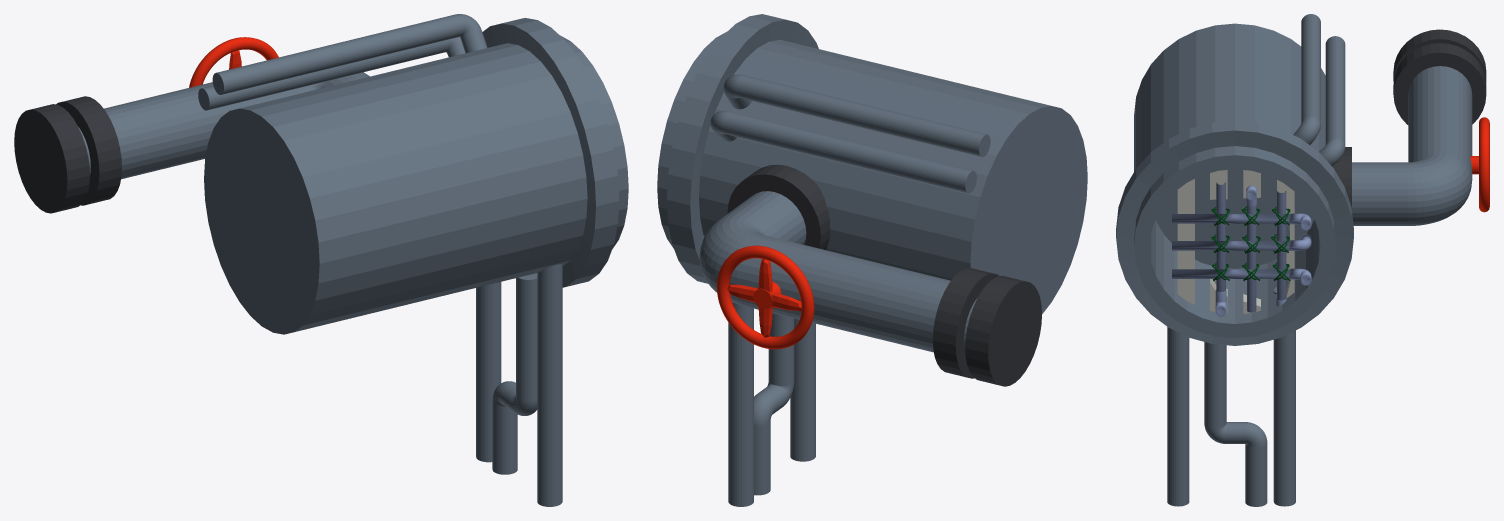
Rendered from Tunel_new_2.fbx.
3 views of the same model, side by side, from view 1: azimuth 30°, elevation 25°; view 2: azimuth 150°, elevation 25°; view 3: azimuth 270°, elevation 25° (orthographic). The views are drawn at different scales.
Parts seen in each view (by area): view 1: Cylinder, Cylinder.006, Cylinder.001, Cylinder.002, Cylinder.003, Cylinder.004, Cylinder.007; view 2: Cylinder, Cylinder.006, Cylinder.001, Cylinder.007, Cylinder.004, Cylinder.003, Cylinder.002; view 3: Cylinder, Cylinder.006, Cube.001, Cylinder.003, Cylinder.002, Cylinder.004, Cylinder.007, Cylinder.001.
Part boxes in pixels (bbox=[...]): Cylinder: bbox=[204, 18, 628, 334]; Cylinder.006: bbox=[14, 37, 369, 213]; Cylinder.001: bbox=[212, 14, 487, 94]; Cylinder.002: bbox=[537, 264, 562, 506]; Cylinder.003: bbox=[492, 273, 537, 474]; Cylinder.004: bbox=[476, 282, 501, 462]; Cylinder.007: bbox=[198, 37, 465, 110]; Cylinder: bbox=[657, 14, 1087, 314]; Cylinder.006: bbox=[699, 164, 1041, 386]; Cylinder.001: bbox=[723, 74, 990, 156]; Cylinder.007: bbox=[710, 110, 976, 193]; Cylinder.004: bbox=[728, 302, 753, 506]; Cylinder.003: bbox=[754, 313, 794, 495]; Cylinder.002: bbox=[790, 318, 815, 461]; Cylinder: bbox=[1116, 23, 1353, 345]; Cylinder.006: bbox=[1332, 29, 1489, 225]; Cube.001: bbox=[1172, 170, 1311, 316]; Cylinder.003: bbox=[1204, 342, 1267, 506]; Cylinder.002: bbox=[1167, 327, 1189, 506]; Cylinder.004: bbox=[1273, 287, 1295, 506]; Cylinder.007: bbox=[1319, 36, 1345, 166]; Cylinder.001: bbox=[1293, 14, 1320, 144].
Size of the model in its own units: 417 by 422 by 370.
